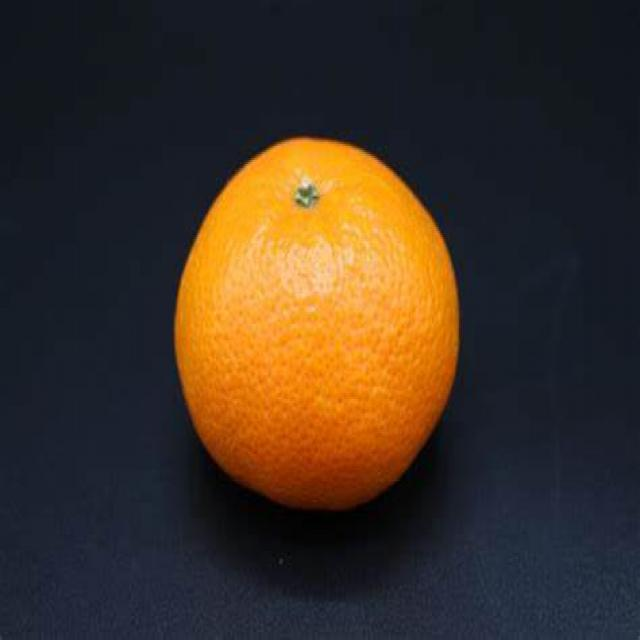Orange: (172, 134, 462, 513)
